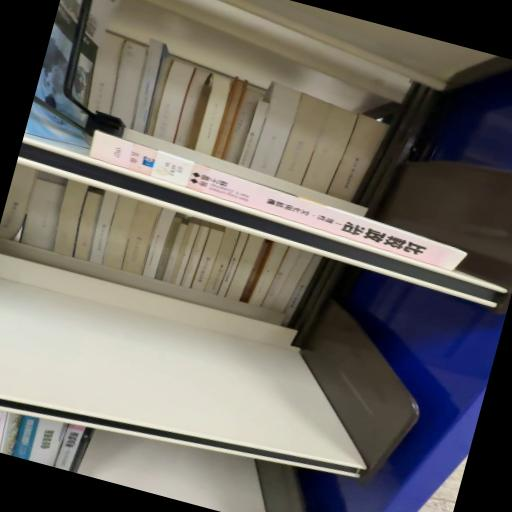flat: (90, 133, 467, 271)
